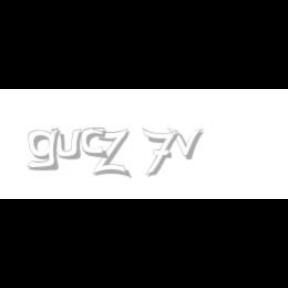7: (142, 128, 180, 178)
Z: (92, 128, 130, 178)
c: (80, 128, 110, 160)
g: (26, 128, 64, 171)
u: (52, 128, 86, 160)
v: (167, 128, 207, 160)
